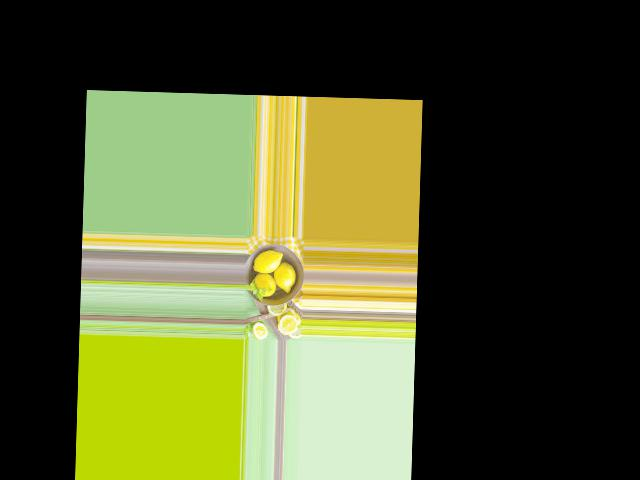lemon: (249, 246, 284, 276)
